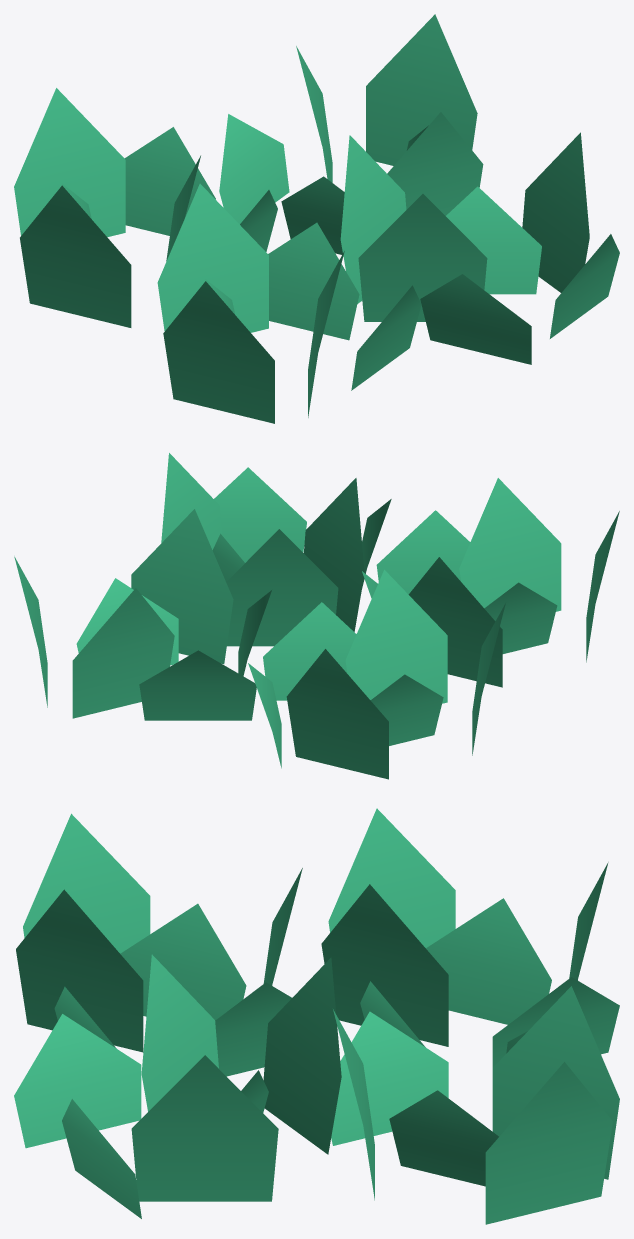
Rendered from grassLarge.dae.
The picture shows the model from 3 angles, top to bottom: view 1: azimuth 30°, elevation 25°; view 2: azimuth 150°, elevation 25°; view 3: azimuth 270°, elevation 25°; orthographic projection. The views are drawn at different scales.
Visible parts, largest first — view 1: grassLarge; view 2: grassLarge; view 3: grassLarge.
Boxes of the visible parts, <box> form: grassLarge: <box>14,14,619,423</box>; grassLarge: <box>14,453,619,779</box>; grassLarge: <box>14,808,619,1224</box>.
Size of the model in its own units: 1.95 by 0.57 by 1.9.
